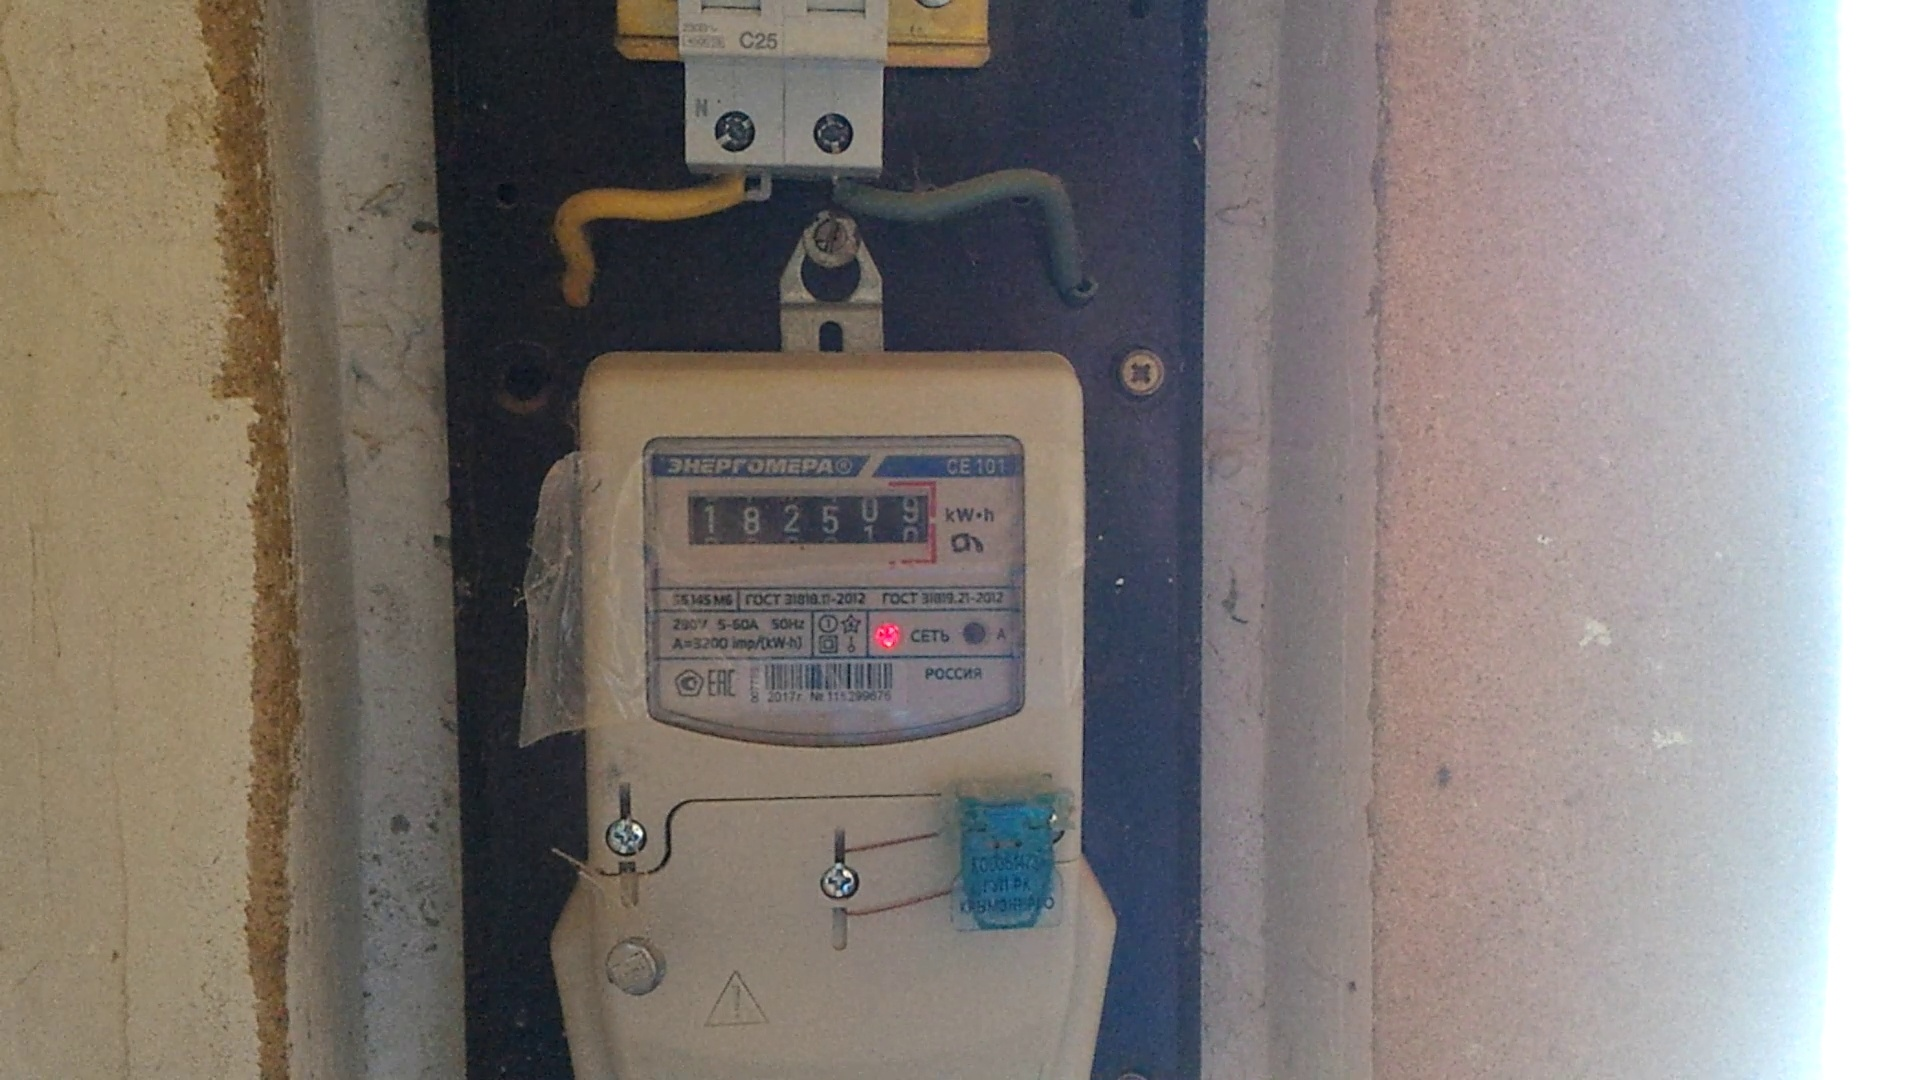counter: (582, 372, 1081, 1075)
counter_screen: (684, 492, 928, 545)
